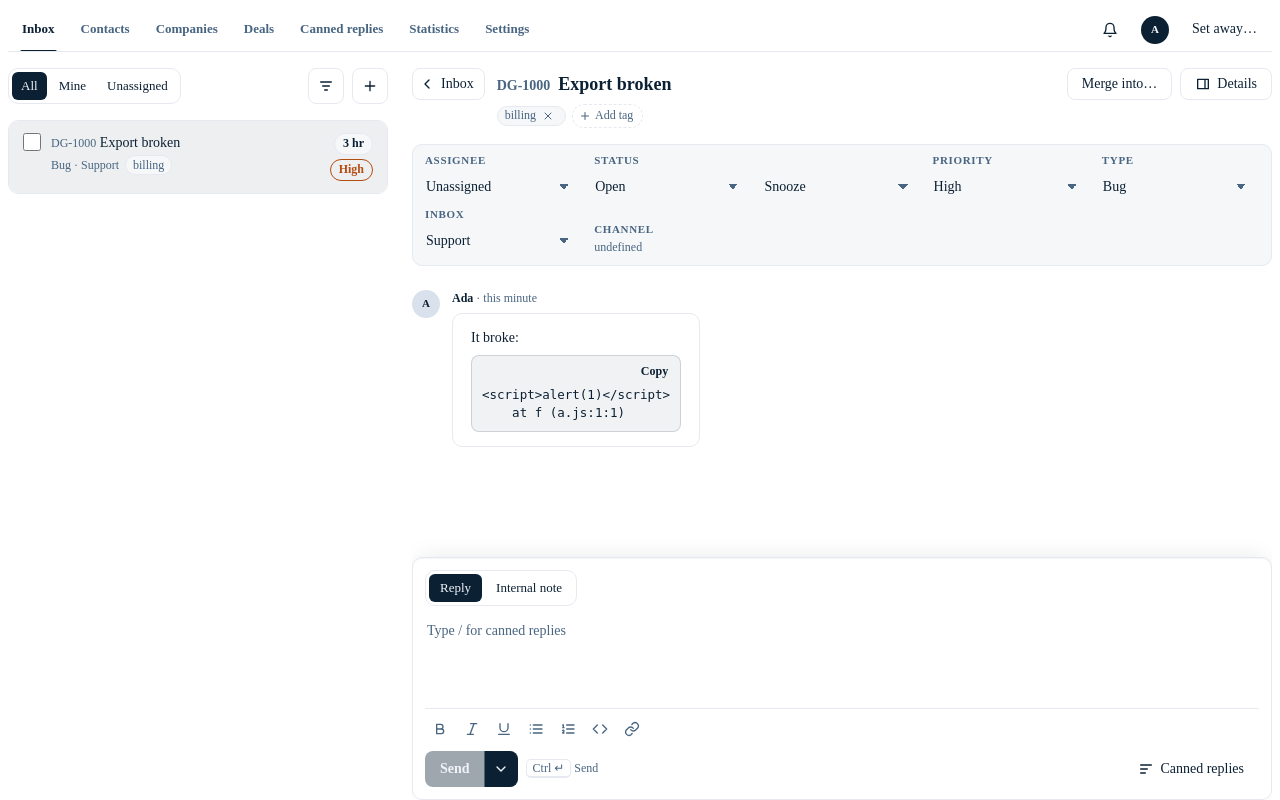
HelpdeskAdmin › shows pasted code and captured errors as code blocks with a copy button
Check: the text "It broke:" is shown, box [471, 330, 519, 345]
Click the button "Details" at (1226, 84), box [1180, 68, 1272, 100]
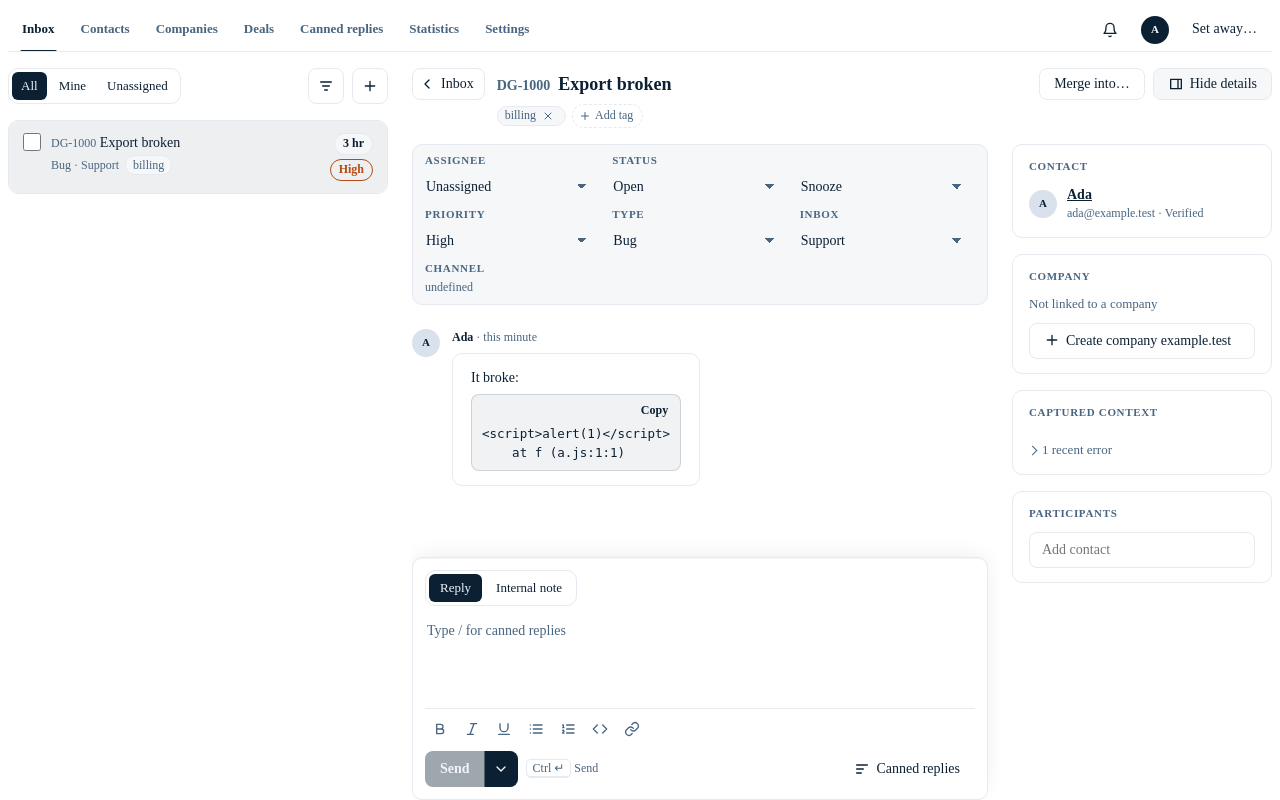
Click the heading "1 recent error" at (1077, 450), box [1042, 442, 1112, 457]
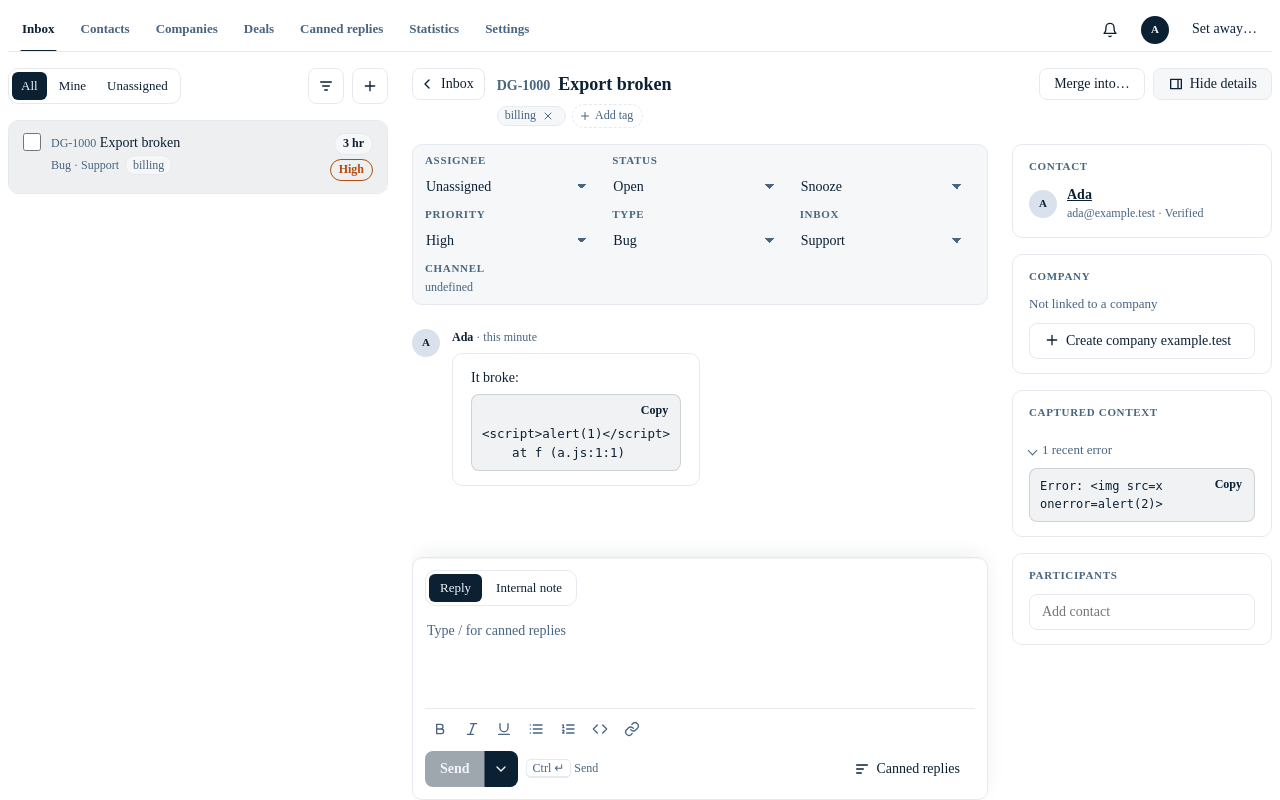
Check: the number of buttons named "Copy code" is 2, box [633, 399, 676, 423]; [1207, 473, 1250, 497]
